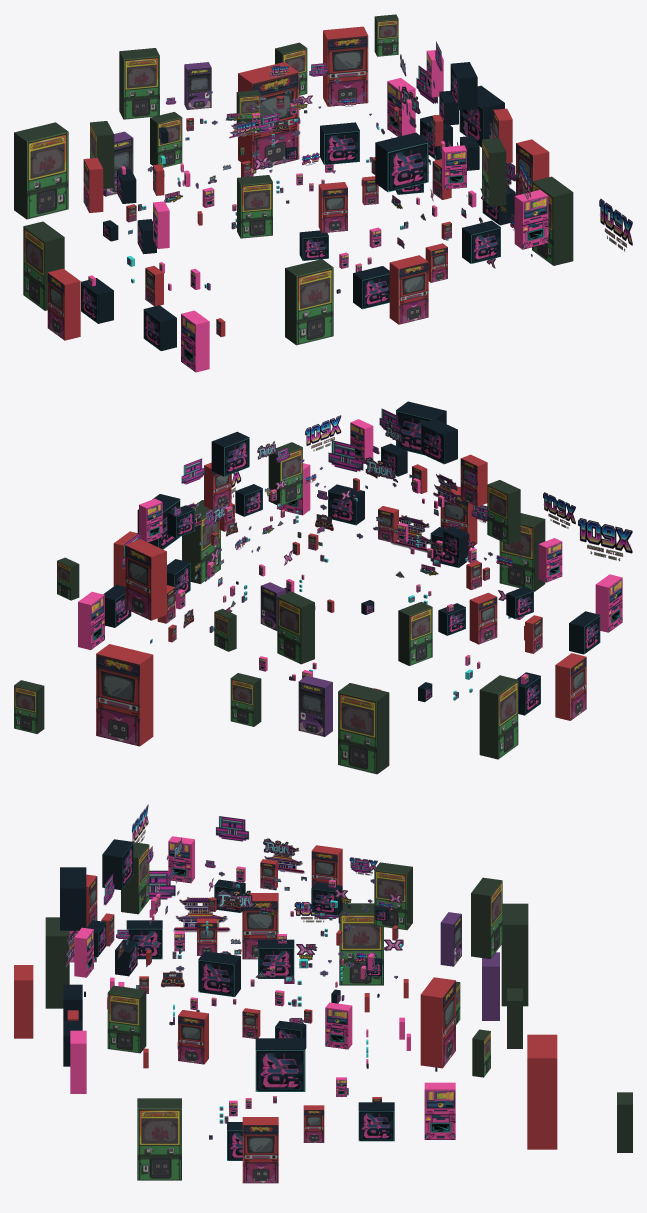
Rendered from kanban_shibuya.glb.
3 views of the same model, one above another, from view 1: azimuth 30°, elevation 25°; view 2: azimuth 150°, elevation 25°; view 3: azimuth 270°, elevation 25° (orthographic). The views are drawn at different scales.
Parts seen in each view (by area): view 1: group7_group1_pPlane1; view 2: group7_group1_pPlane1; view 3: group7_group1_pPlane1.
Part boxes in pixels (bbox=[...]): group7_group1_pPlane1: bbox=[14, 14, 632, 372]; group7_group1_pPlane1: bbox=[14, 401, 632, 774]; group7_group1_pPlane1: bbox=[14, 804, 632, 1183].
Bounding box in the file's own units: 6.65 × 3.02 × 7.03.
Materials: 1 (1 with a texture image).
